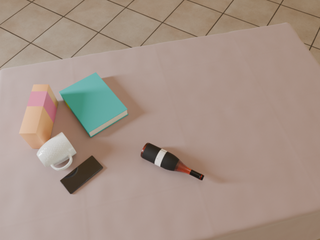book: (59, 72, 128, 137)
bottle: (141, 143, 204, 180)
box: (19, 85, 58, 148)
cup: (37, 132, 76, 171)
phone: (60, 156, 103, 194)
